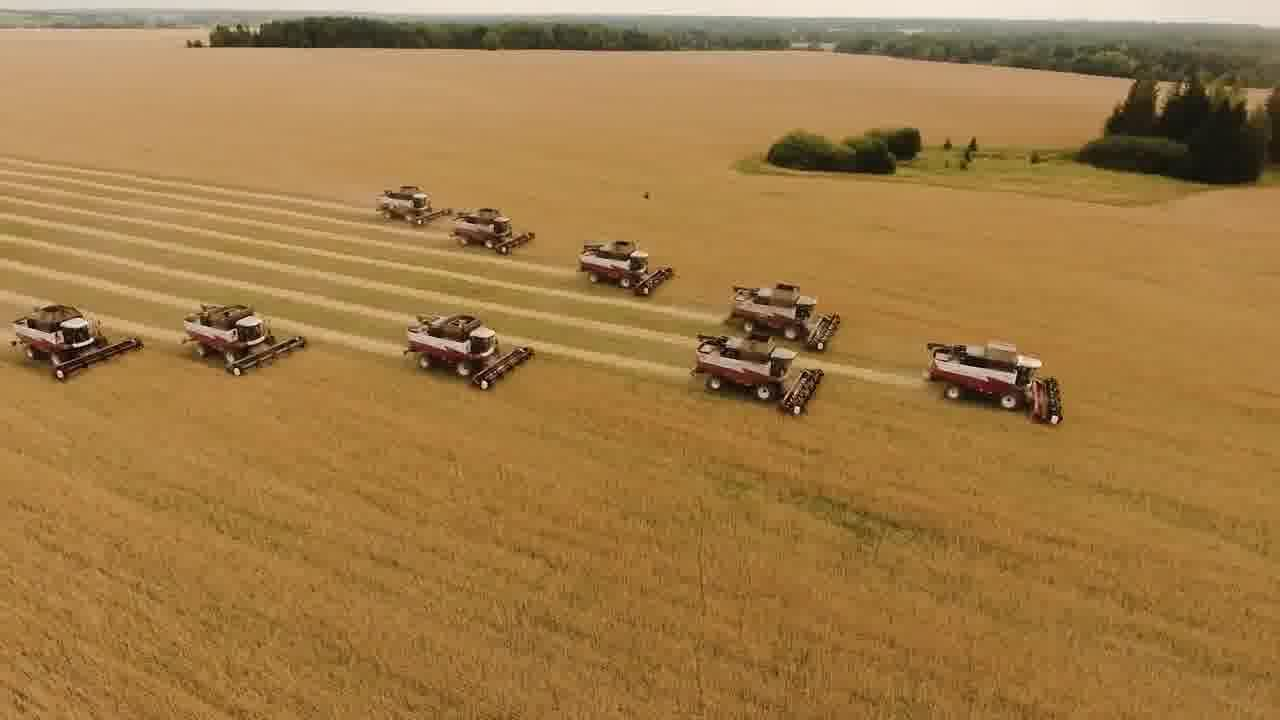combine harvester: (923, 333, 1066, 429), (688, 326, 823, 418), (6, 298, 146, 384), (402, 307, 538, 394), (177, 296, 309, 380), (726, 279, 844, 353), (576, 233, 674, 298), (446, 204, 539, 259), (377, 182, 446, 226)
